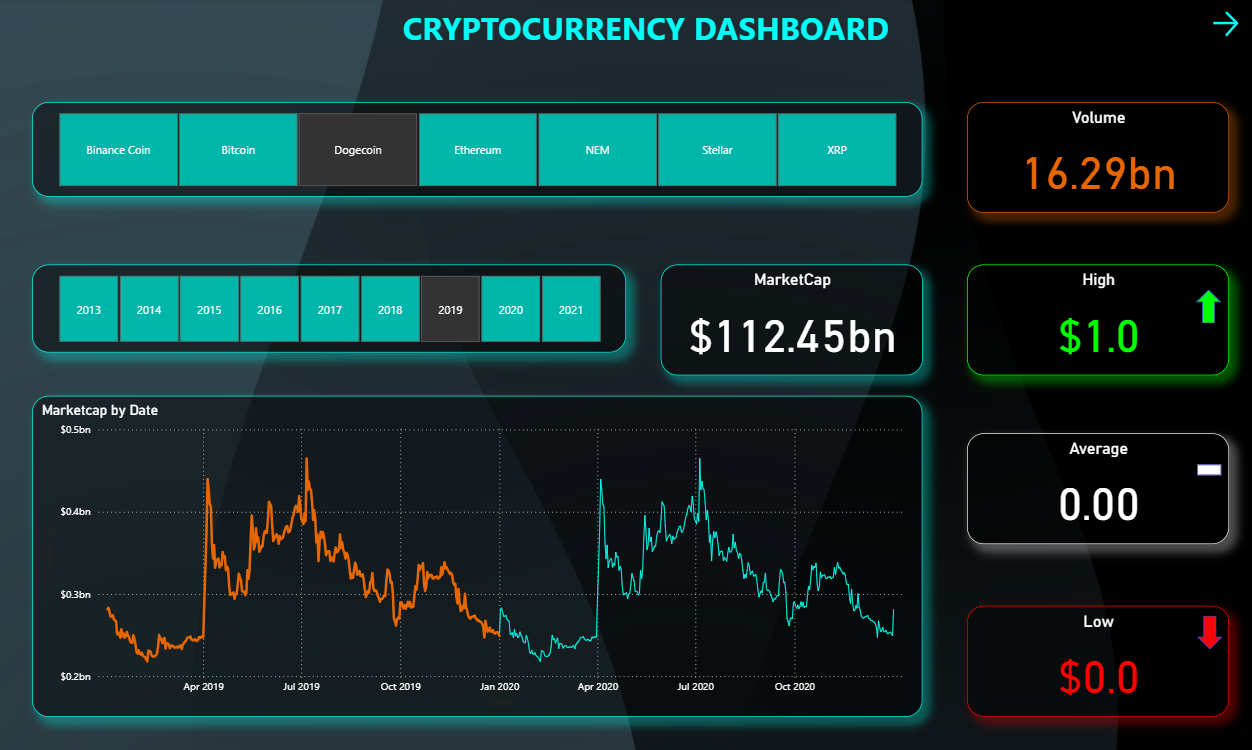

The dashboard page shown, as its layout file describes it:
{"tool":"powerbi","page":{"name":"Page 1","canvas":[1500,900],"ordinal":0},"visuals":[{"type":"slicer","fields":{"Values":["CryptoData_CSV.Name"]},"box":[41.8,125.4,1059.7,112.6],"z":0},{"type":"slicer","fields":{"Values":["CryptoData_CSV.Year"]},"box":[41.8,318.4,707.5,104.5],"z":1000},{"type":"lineChart","fields":{"Y":["Sum(CryptoData_CSV.Marketcap)"],"Category":["CryptoData_CSV.Date"]},"box":[41.8,474.4,1059.7,382.7],"z":2000},{"type":"actionButton","box":[1442.4,11.3,46.6,40.2],"z":3000},{"type":"textbox","box":[310.4,6.4,923,64.3],"z":4000},{"type":"card","title":"MarketCap","fields":{"Values":["Sum(CryptoData_CSV.Marketcap)"]},"box":[789.6,318.4,312,131.9],"z":5000},{"type":"card","title":"Volume","fields":{"Values":["Sum(CryptoData_CSV.Volume)"]},"box":[1154.6,125.4,312,131.9],"z":6000},{"type":"card","title":"High","fields":{"Values":["Sum(CryptoData_CSV.High)"]},"box":[1154.6,318.4,312,131.9],"z":7000},{"type":"card","title":"Average","fields":{"Values":["Avg(CryptoData_CSV.Average)"]},"box":[1154.6,519.4,312,131.9],"z":8000},{"type":"card","title":"Low","fields":{"Values":["Min(CryptoData_CSV.Low)"]},"box":[1154.6,725.2,312,131.9],"z":9000},{"type":"shape","box":[1426.4,349,30.6,40.2],"z":10000},{"type":"shape","box":[1428,736.5,30.6,40.2],"z":11000},{"type":"shape","box":[1428,556.4,28.9,12.9],"z":12000}]}

Visuals, with their boxes in screenshot pixels (x1, y1, x2, y2), scaled from the page's 1500x900 canvas onto the 1252x750 screenshot:
slicer - CryptoData_CSV.Name: 35, 105, 919, 198
slicer - CryptoData_CSV.Year: 35, 265, 625, 352
lineChart - Sum(CryptoData_CSV.Marketcap) x CryptoData_CSV.Date: 35, 395, 919, 714
actionButton: 1204, 9, 1243, 43
textbox: 259, 5, 1029, 59
"MarketCap" card: 659, 265, 919, 375
"Volume" card: 964, 105, 1224, 214
"High" card: 964, 265, 1224, 375
"Average" card: 964, 433, 1224, 543
"Low" card: 964, 604, 1224, 714
shape: 1191, 291, 1216, 324
shape: 1192, 614, 1217, 647
shape: 1192, 464, 1216, 474
